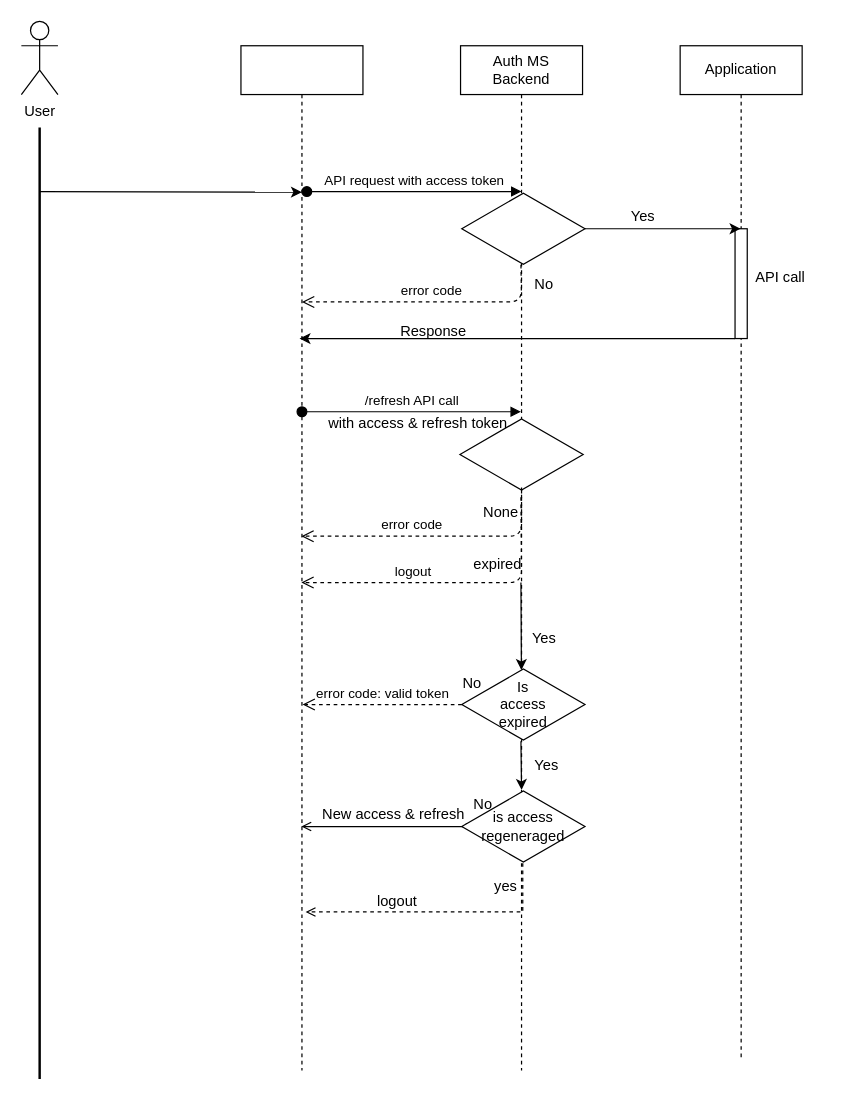
Some shapes in this 848 by 1102 pixel diagram are drawn without their labels. Each missing label, with the centre of its shape:
"Client (FrontEnd)" goes at point (301, 558).
"Is access token valid?" goes at point (523, 228).
"Is refresh valid" goes at point (521, 454).
